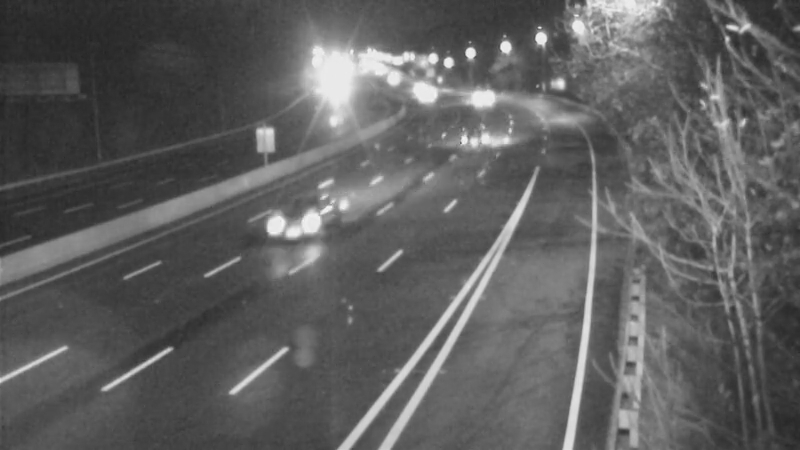vehicle: (249, 186, 329, 266), (392, 61, 442, 111), (398, 68, 448, 118), (451, 76, 501, 126), (451, 118, 501, 168)
